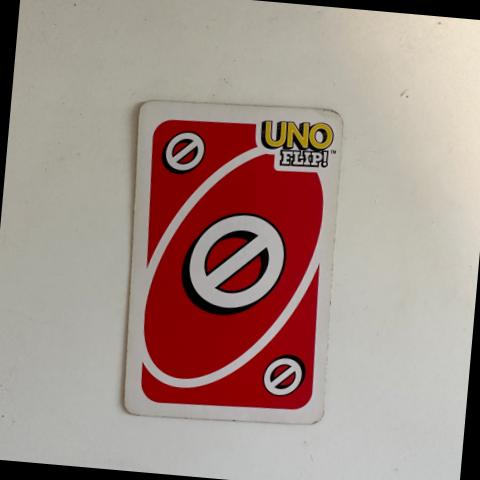lredskip-20: (142, 110, 220, 200)
